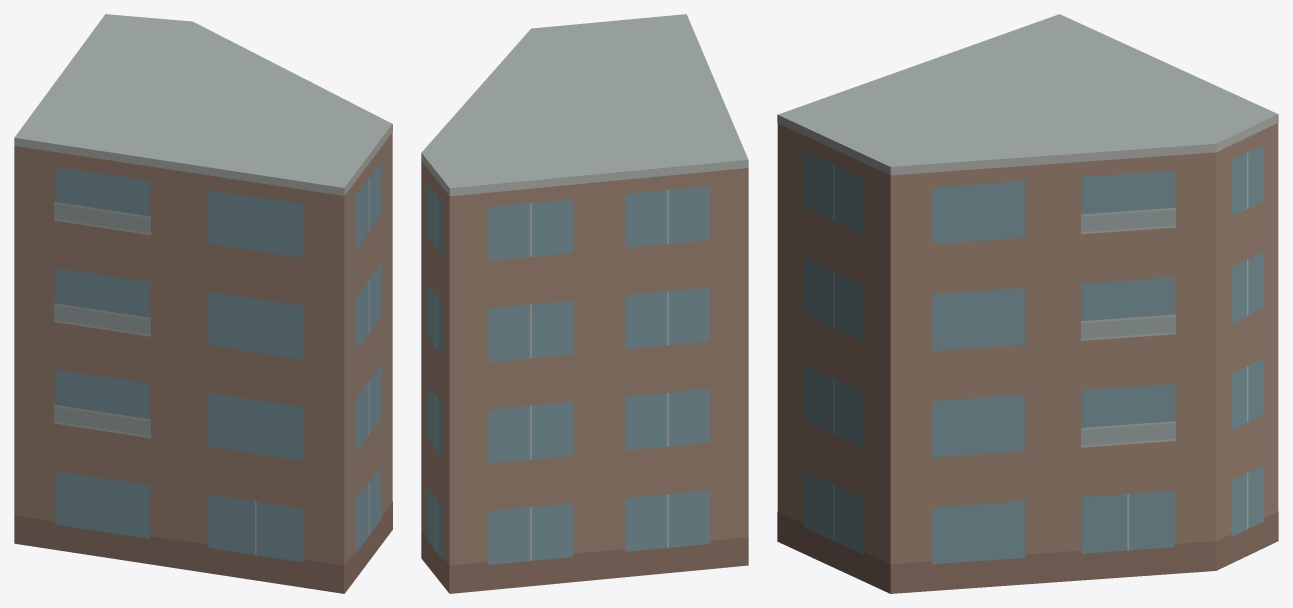
The model's file is survey-upis-32922137.glb.
3 renders of one model, left to right at view 1: azimuth 30°, elevation 25°; view 2: azimuth 150°, elevation 25°; view 3: azimuth 270°, elevation 25°, orthographic. The views are drawn at different scales.
Visible parts, largest first — view 1: survey-upis-32922137.tmp; view 2: survey-upis-32922137.tmp; view 3: survey-upis-32922137.tmp.
Boxes of the visible parts, bbox=[...] form: survey-upis-32922137.tmp: bbox=[14, 14, 392, 593]; survey-upis-32922137.tmp: bbox=[421, 14, 748, 593]; survey-upis-32922137.tmp: bbox=[777, 14, 1278, 593].
Size of the model in its own units: 9.46 by 12.3 by 13.09.
